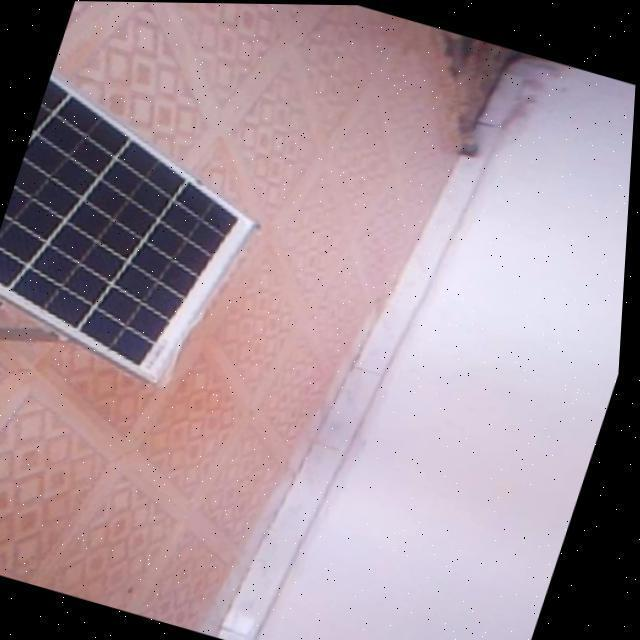Normal Solar Panel: (0, 63, 289, 395)
